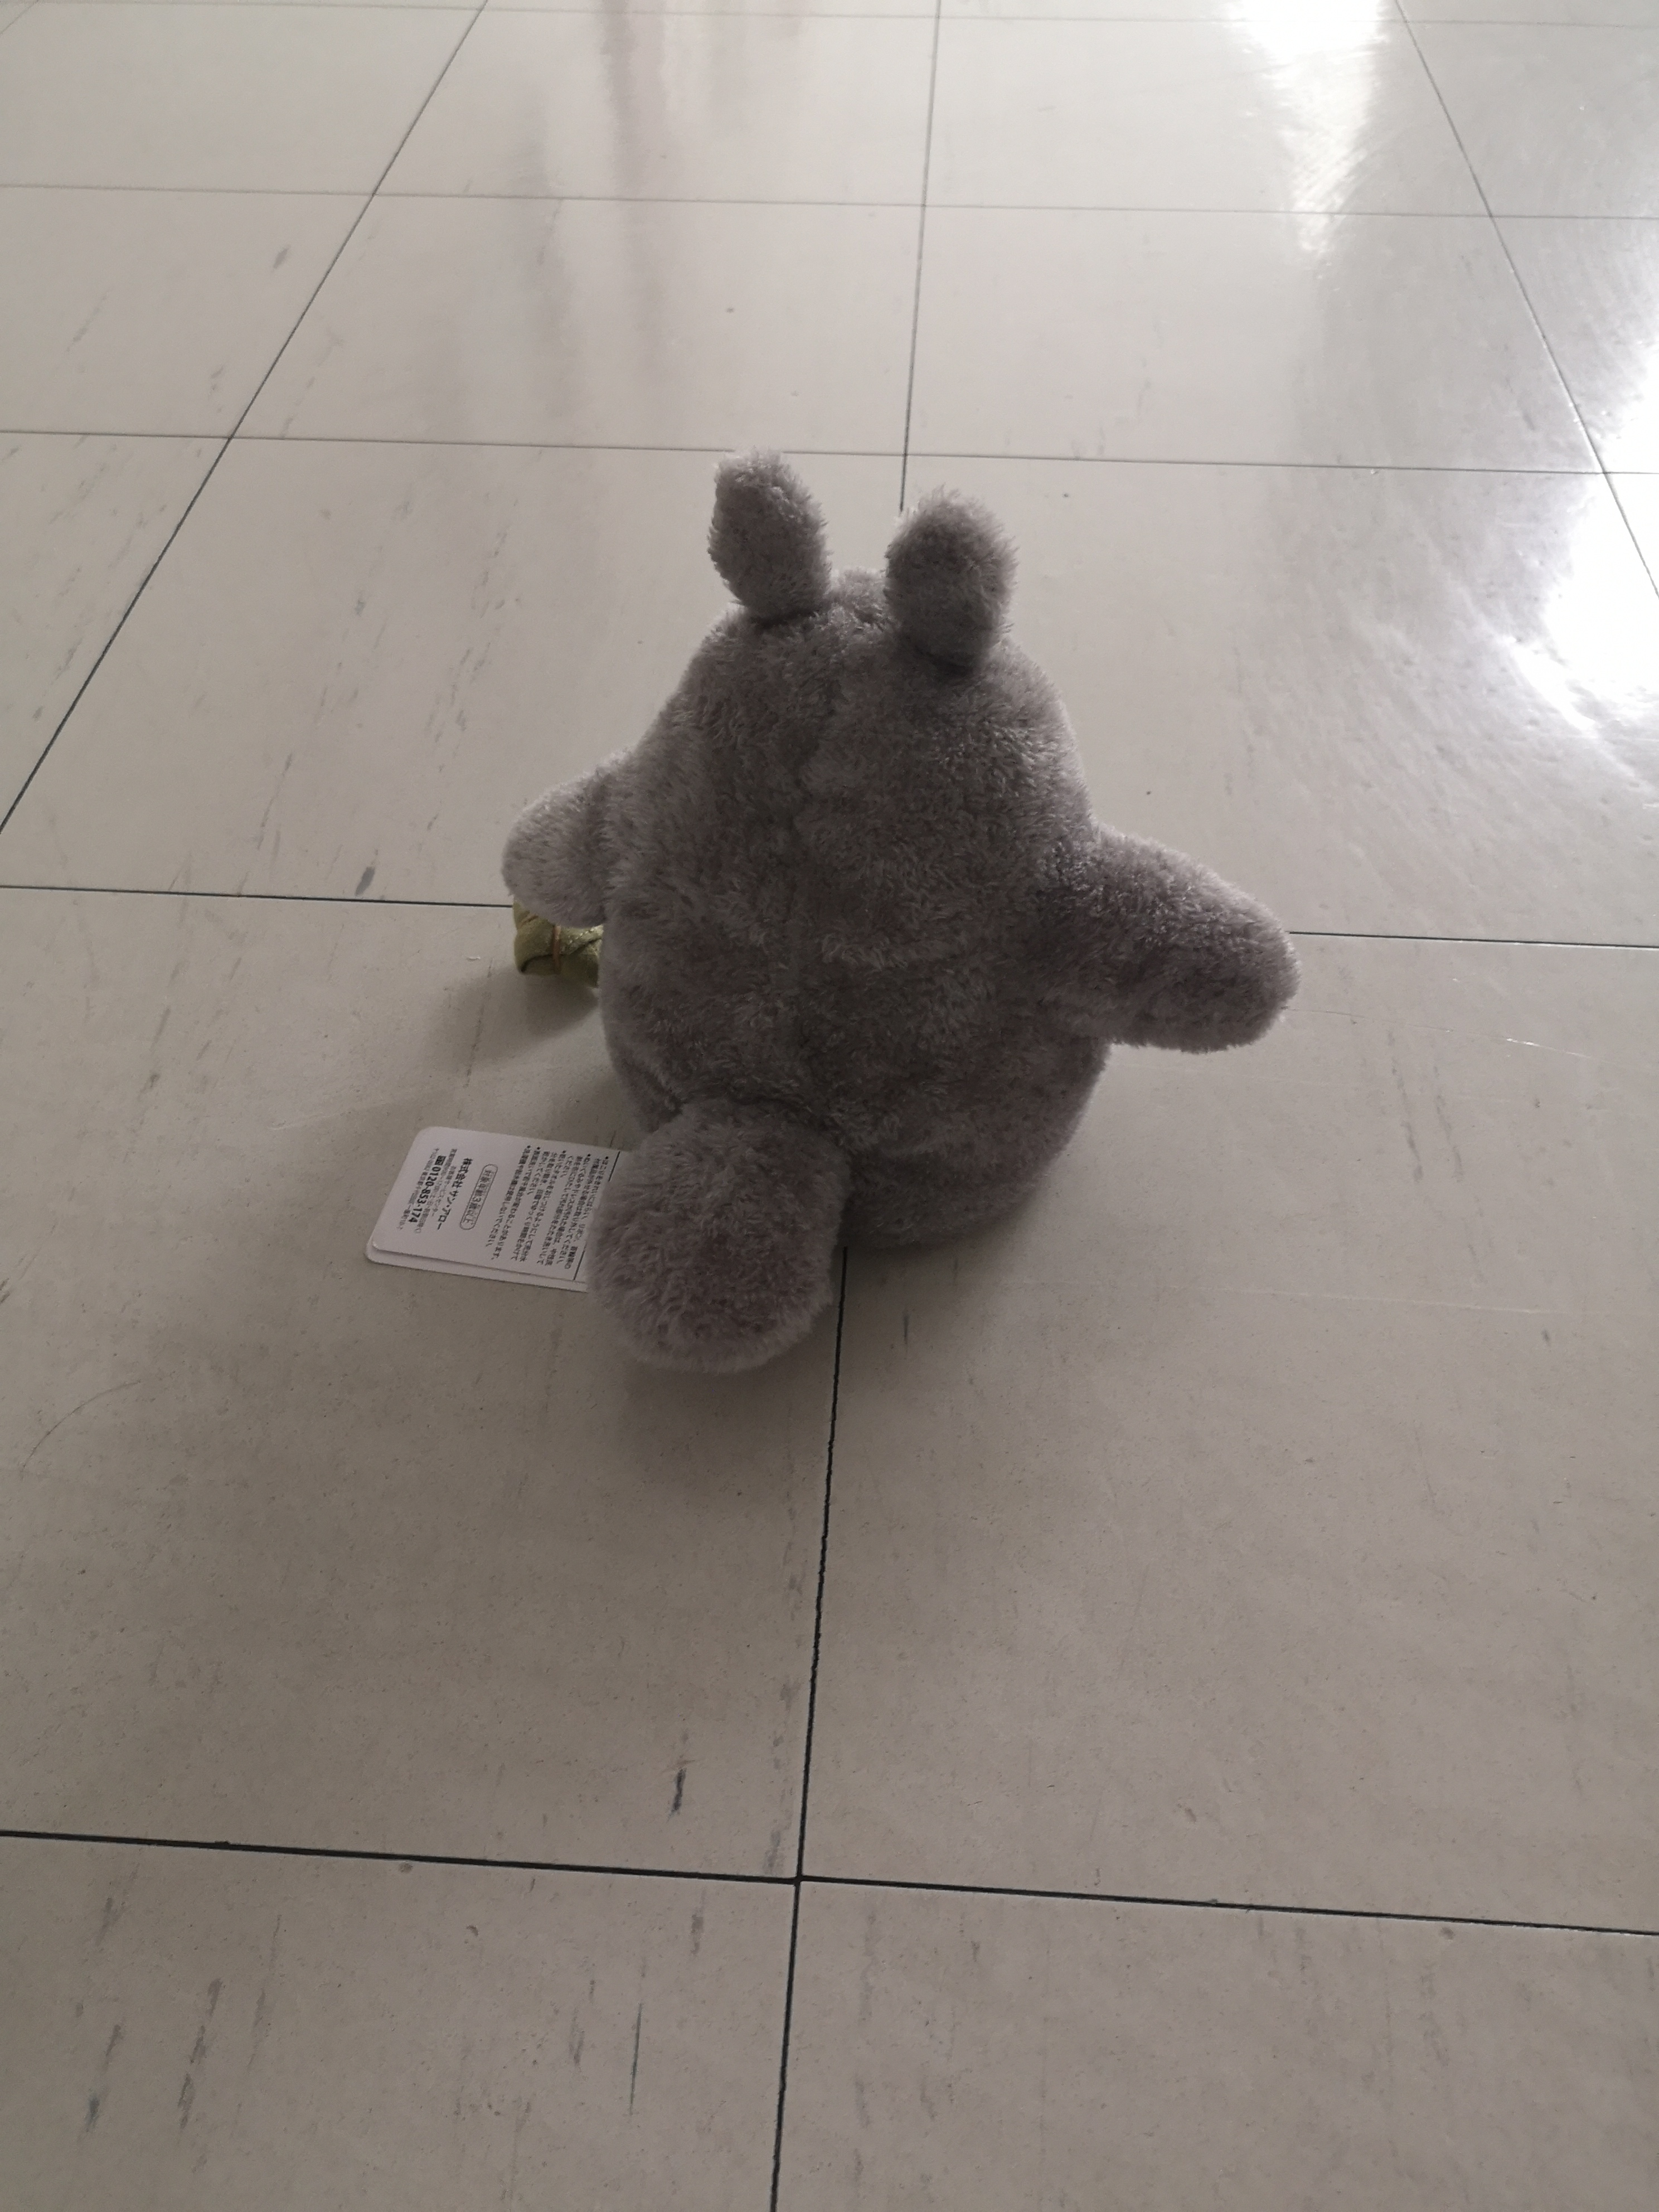totoro: (497, 451, 1303, 1386)
